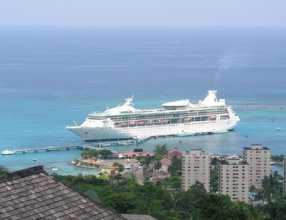youlun: (69, 83, 246, 142)
